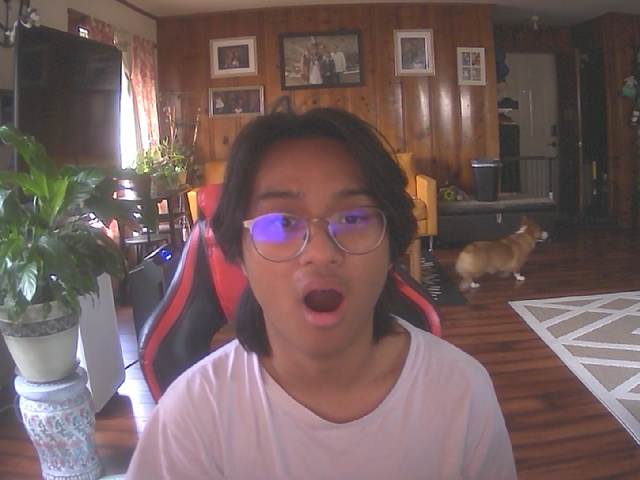fear: (231, 117, 400, 360)
